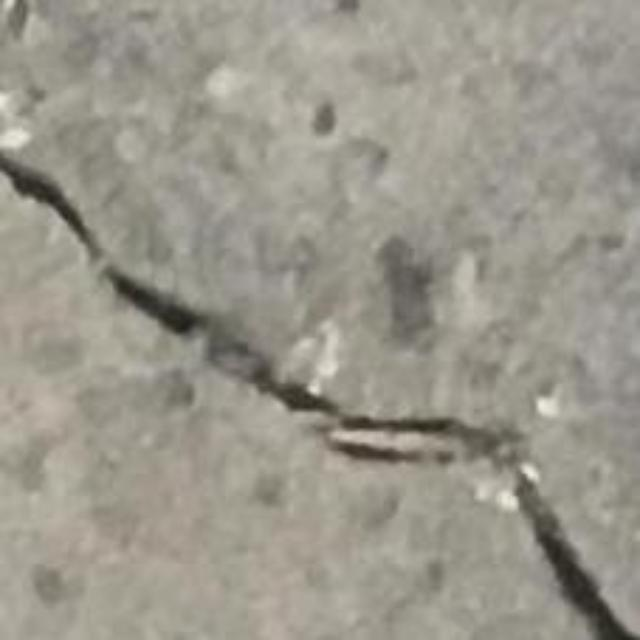crack: (0, 153, 639, 639)
